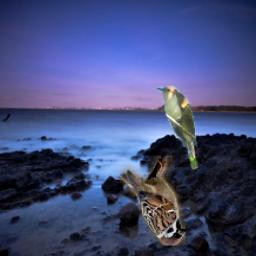Cuckoo: (154, 85, 200, 173)
Sparrow: (120, 156, 186, 246)
